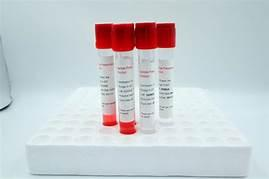Syringe: (108, 21, 141, 137), (150, 20, 180, 127), (93, 20, 118, 128)
